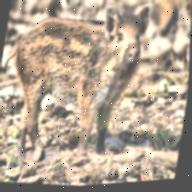boar: (0, 0, 158, 151)
